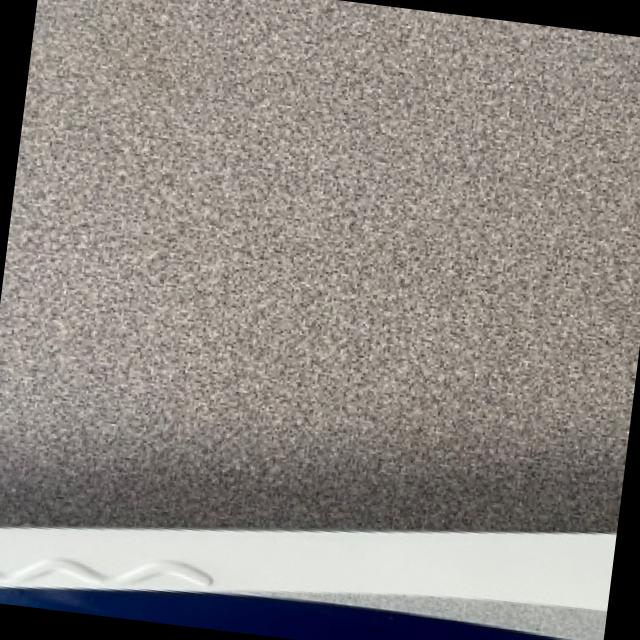healthy: (0, 0, 640, 528), (0, 525, 616, 640)
